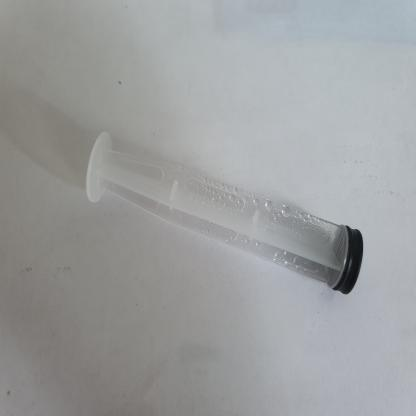wet: (86, 130, 366, 298)
